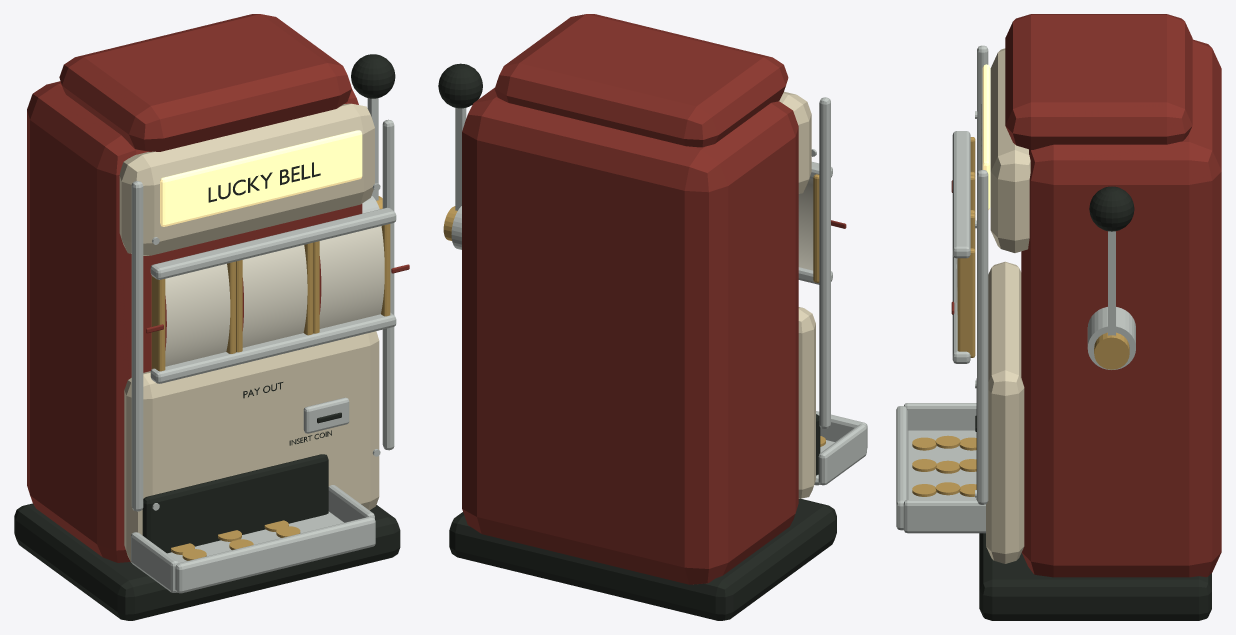
Rendered from slot-cabinet.glb.
3 views of the same model, side by side, from view 1: azimuth 30°, elevation 25°; view 2: azimuth 150°, elevation 25°; view 3: azimuth 270°, elevation 25° (orthographic).
Parts seen in each view (by area): view 1: cabinet body, lower face, front bright trim, cabinet foot, crown name plaque, reel-paper-2, reel-paper-0, reel-paper-1, window side trim, lever knob, payout coin, lever stem; view 2: cabinet body, cabinet foot, front bright trim, lower face, lever knob, reel-paper-0, lever stem, window side trim; view 3: cabinet body, front bright trim, lower face, cabinet foot, window side trim, payout coin, lever knob, lever hub, crown name plaque, lever stem.
Boxes of the visible parts, x1,y1,x2,y2 form: cabinet body: (27, 14, 409, 562); lower face: (119, 103, 379, 562); front bright trim: (131, 119, 396, 593); cabinet foot: (14, 162, 400, 620); crown name plaque: (160, 130, 362, 226); reel-paper-2: (319, 226, 384, 328); reel-paper-0: (165, 263, 230, 366); reel-paper-1: (242, 245, 307, 347); window side trim: (151, 224, 390, 371); lever knob: (351, 54, 395, 98); payout coin: (171, 520, 300, 560); lever stem: (367, 98, 378, 200); cabinet body: (462, 14, 846, 584); cabinet foot: (449, 414, 836, 620); front bright trim: (451, 97, 867, 485); lower face: (779, 91, 815, 498); lever knob: (438, 63, 482, 108); reel-paper-0: (798, 178, 813, 270); lever stem: (455, 108, 466, 210); window side trim: (813, 174, 819, 282); cabinet body: (951, 14, 1221, 577); front bright trim: (896, 45, 1135, 533); lower face: (986, 48, 1030, 563); cabinet foot: (975, 104, 1211, 620); window side trim: (957, 137, 975, 357); payout coin: (912, 435, 976, 496); lever knob: (1089, 186, 1134, 231); lever hub: (1094, 332, 1129, 369); crown name plaque: (982, 64, 990, 209); lever stem: (1108, 231, 1115, 335).
Size of the model in its own units: 1.21 by 1.7 by 1.01.
